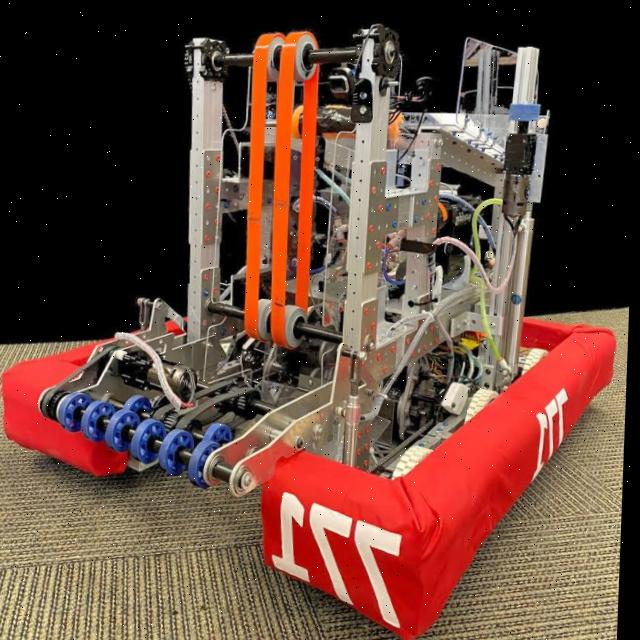robot: (0, 24, 628, 640)
